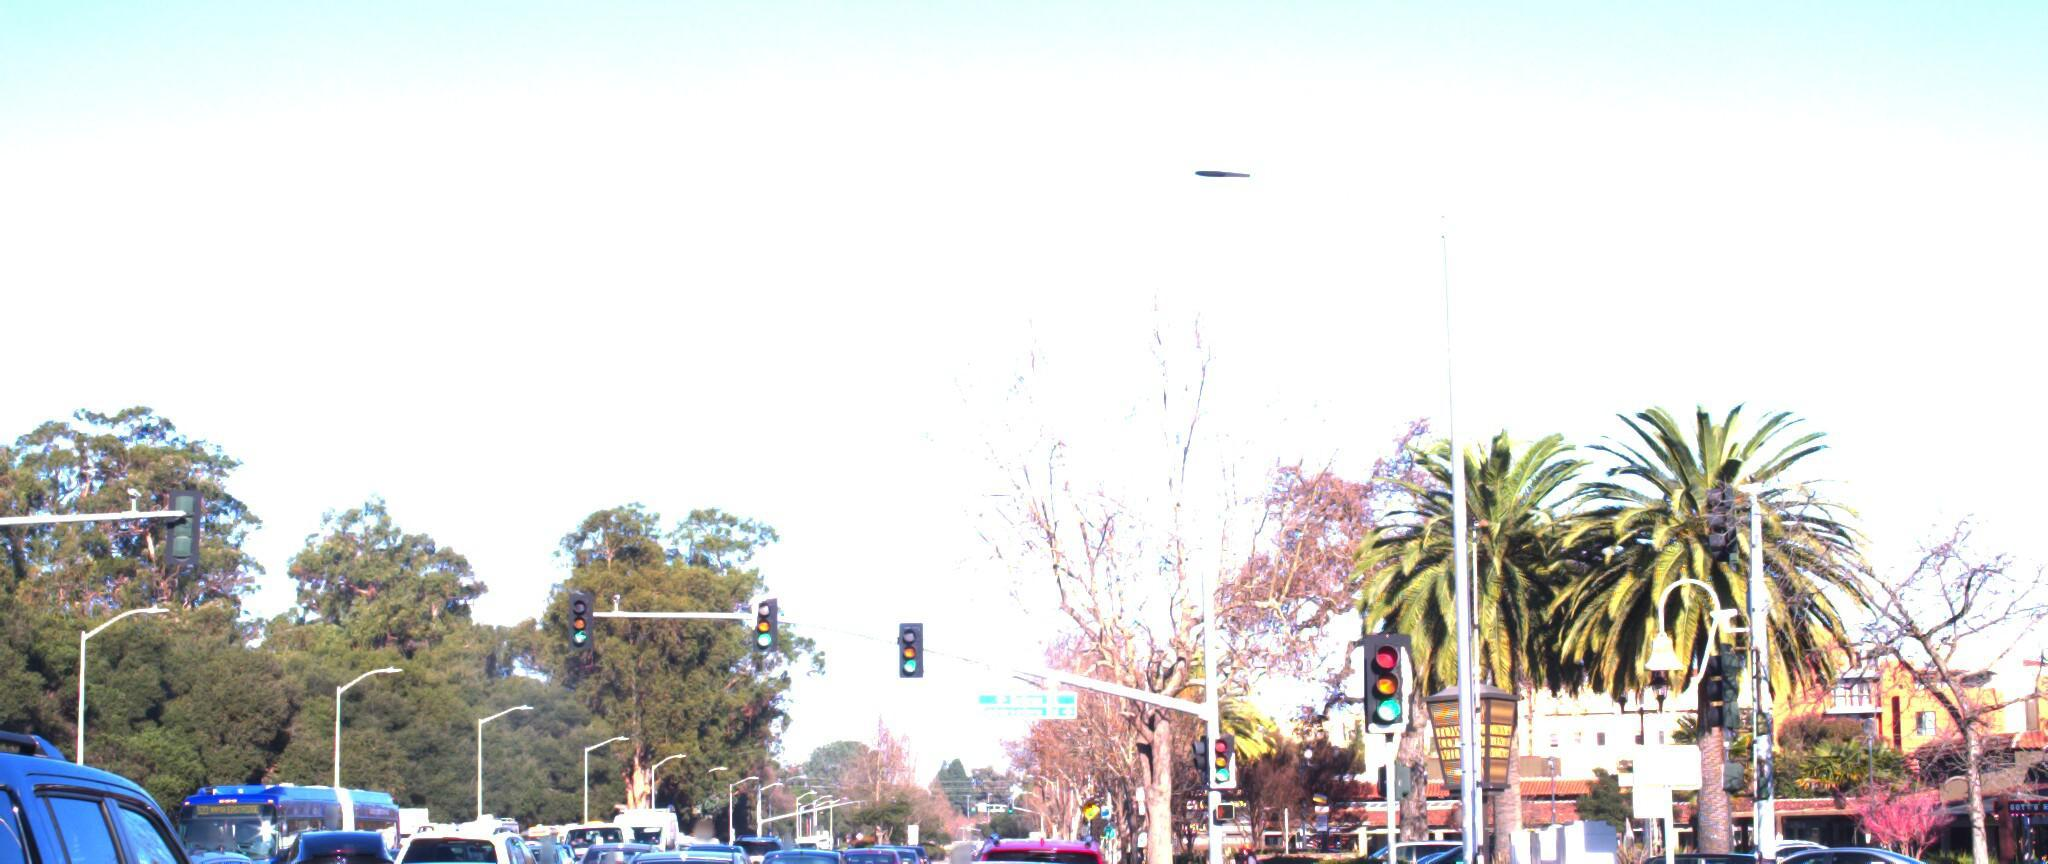bicycle: (1216, 818, 1284, 864)
bus: (178, 754, 419, 864)
car: (0, 630, 344, 864), (54, 814, 375, 864), (1659, 821, 1971, 864), (387, 803, 567, 864), (281, 835, 627, 864), (953, 810, 1121, 864), (858, 835, 1155, 864), (278, 803, 398, 864), (542, 807, 660, 864), (611, 827, 792, 864), (739, 812, 857, 864), (1919, 830, 2048, 864), (836, 821, 918, 864)
